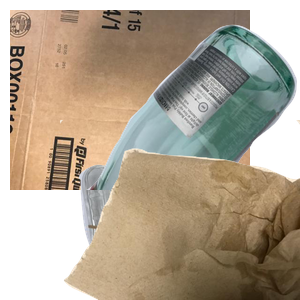cardboard: (10, 10, 250, 190)
glass: (86, 22, 300, 202)
plastic: (76, 151, 270, 300)
trash: (60, 120, 300, 300)
